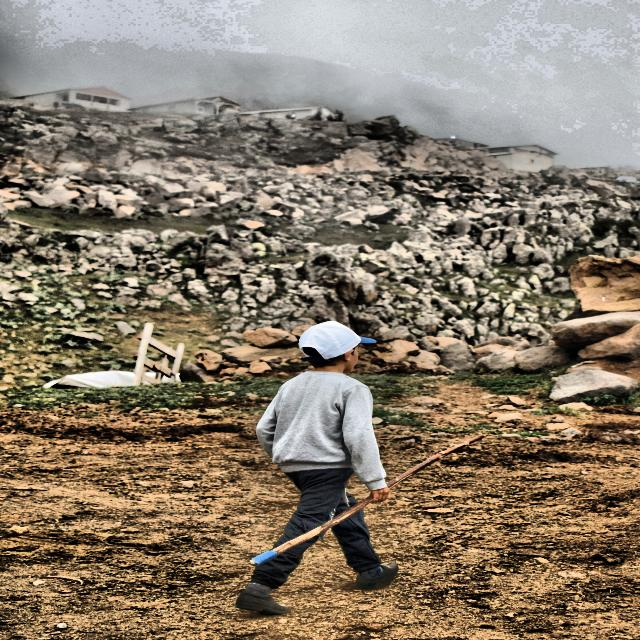Human: (221, 317, 409, 596)
